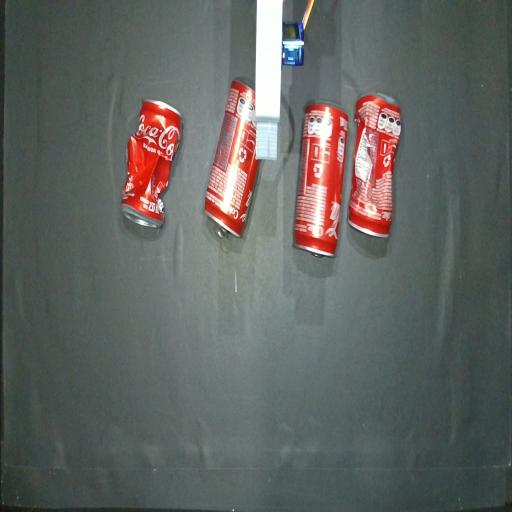lata: (205, 79, 260, 238), (294, 101, 348, 256)
lata_defectuoso: (347, 93, 402, 237), (122, 101, 182, 227)
